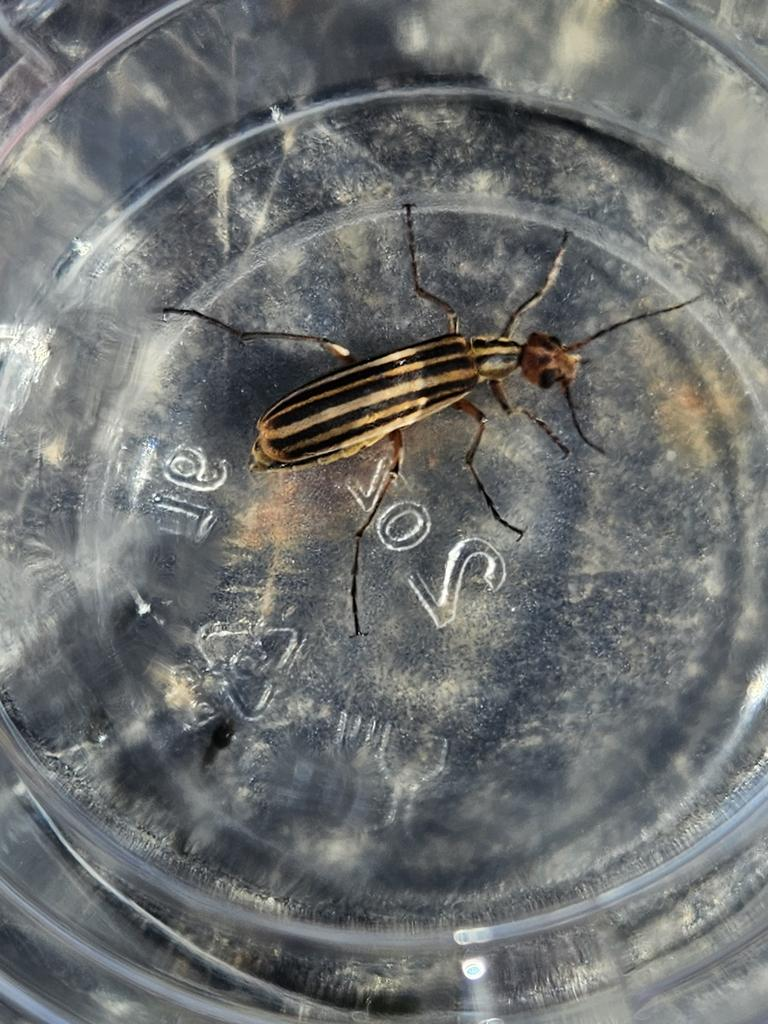blister_beetle: (97, 165, 742, 683)
